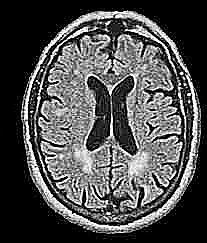Normal_Brain: (4, 2, 207, 243)
